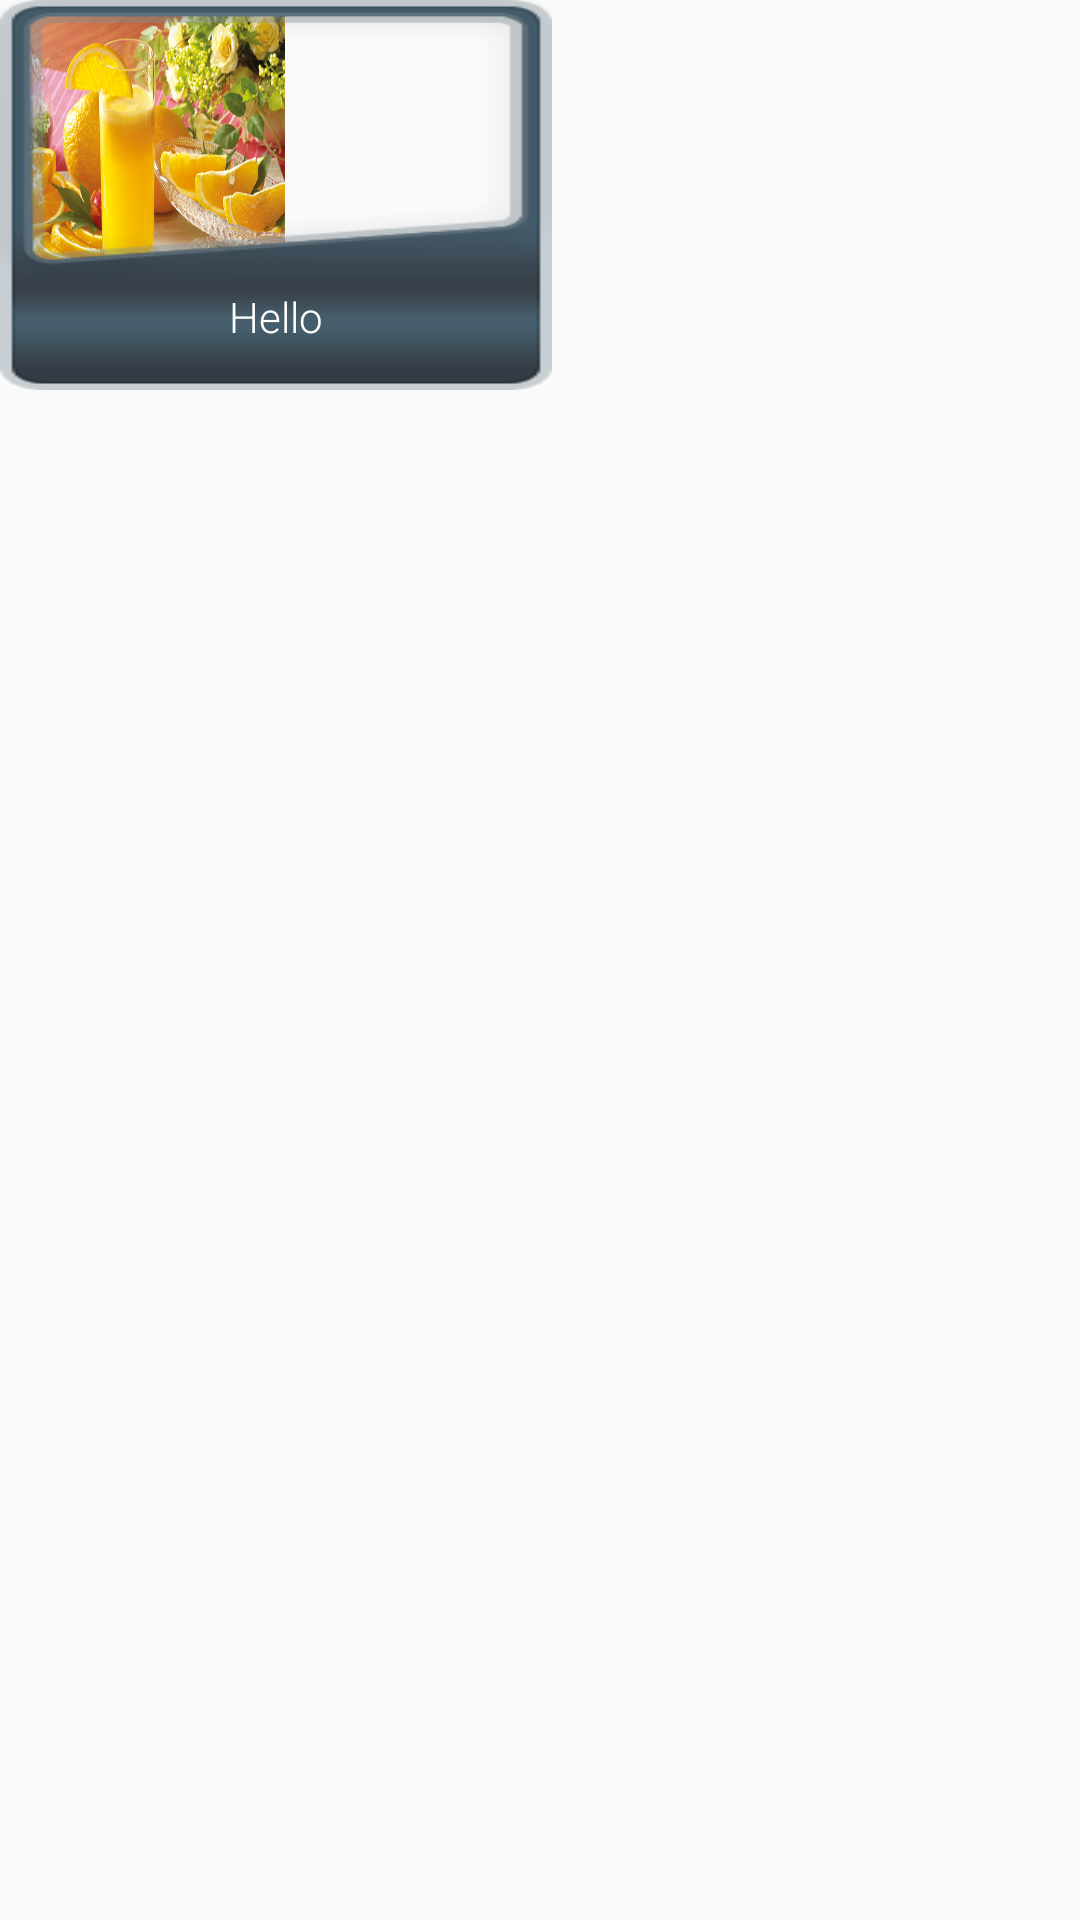

Icons on this 1080px×1920px Android screen, each with the point to tap as [x,y]:
fruit: [150,150]
